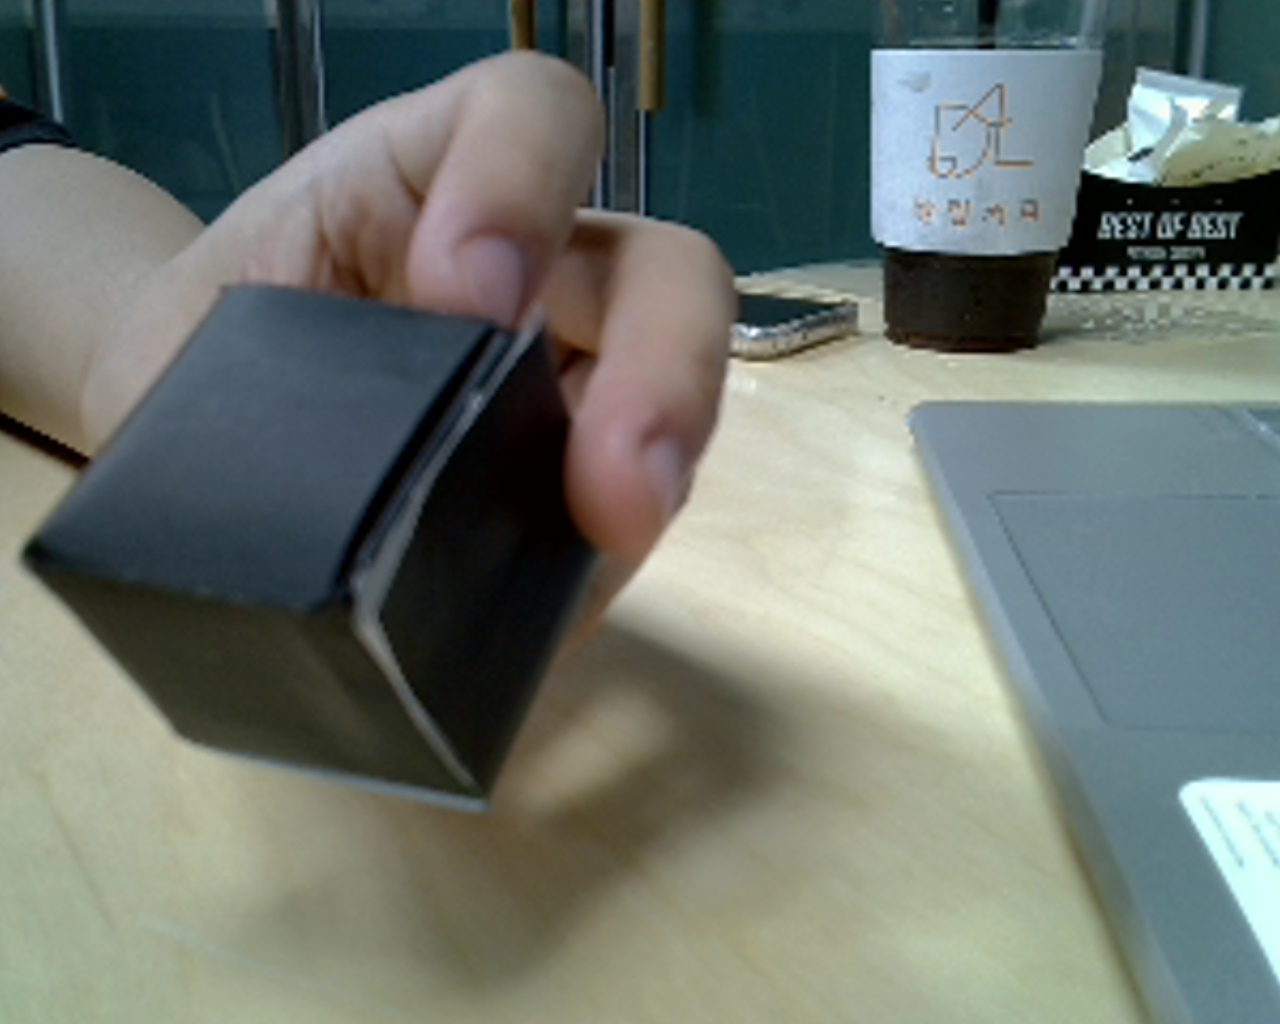blackbox: (11, 222, 650, 875)
